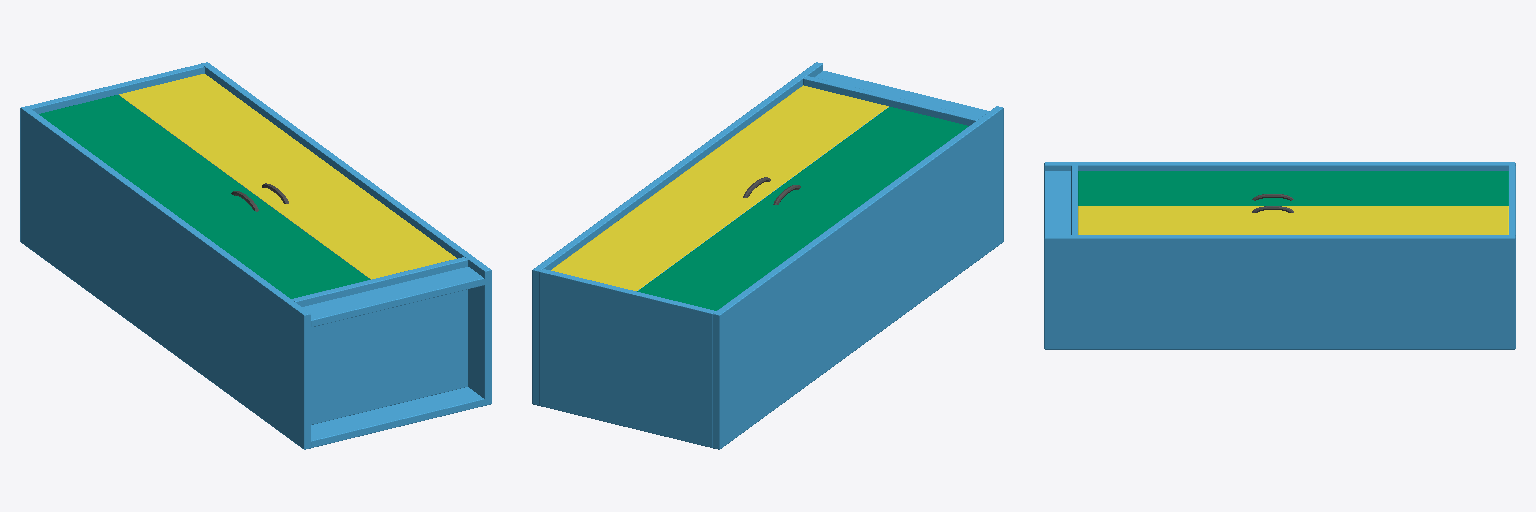
robot.urdf — 266:
<robot name="266">


	<link name="0:virtual">
		<visual>
			<origin xyz="0.0 0.0 0.0" rpy="0 0 0"/>
			<geometry>
				<cylinder length="0" radius="0"/>
			</geometry>
		</visual>
	</link>


	<link name="1:static">
		<visual>
			<origin xyz="-0.0 -0.0 -0.0" rpy="0 0 0"/>
			<geometry>
				<mesh filename="../raw_data/266/part_meshes/1.dae" />
			</geometry>
		</visual>
	</link>


	<link name="2:door 1">
		<visual>
			<origin xyz="0.36953699588775635 -1.1101054698228836 -0.24659500271081924" rpy="0 0 0"/>
			<geometry>
				<mesh filename="../raw_data/266/part_meshes/2.dae" />
			</geometry>
		</visual>
	</link>


	<link name="3:door 2">
		<visual>
			<origin xyz="-0.36953699588775635 -1.1101054698228836 -0.24659500271081924" rpy="0 0 0"/>
			<geometry>
				<mesh filename="../raw_data/266/part_meshes/3.dae" />
			</geometry>
		</visual>
	</link>


	<joint name="0:virtual::1:static" type="fixed">
		<parent link="0:virtual"/>
		<child link="1:static"/>
		<origin xyz="0.0 0.0 0.0" rpy="0 0 0"/>
	</joint>


	<joint name="0:virtual::2:door 1_rotation" type="revolute">
		<parent link="0:virtual"/>
		<child link="2:door 1"/>
		<origin xyz="-0.36953699588775635 1.1101054698228836 0.24659500271081924" rpy="0 0 0"/>
		<limit lower="-1.4922565104551517" upper="0.0" effort="10" velocity="3"/>
		<axis xyz="0.0 1.0 0.0"/>
	</joint>


	<joint name="0:virtual::3:door 2_rotation" type="revolute">
		<parent link="0:virtual"/>
		<child link="3:door 2"/>
		<origin xyz="0.36953699588775635 1.1101054698228836 0.24659500271081924" rpy="0 0 0"/>
		<limit lower="0.0" upper="1.4765485471872026" effort="10" velocity="3"/>
		<axis xyz="0.0 1.0 0.0"/>
	</joint>


</robot>

--- Render facts (derived) ---
The picture shows the robot from 3 angles, left to right: view 1: azimuth 30°, elevation 25°; view 2: azimuth 150°, elevation 25°; view 3: azimuth 270°, elevation 25°; orthographic projection.
Model 266 with 4 links and 3 joints (2 revolute, 1 fixed), rooted at 0:virtual, posed every joint at zero.
Visible links, largest first — view 1: 1:static, 3:door 2, 2:door 1; view 2: 1:static, 3:door 2, 2:door 1; view 3: 1:static, 2:door 1, 3:door 2.
Link boxes in pixels (x1=…): 1:static: x1=20, y1=62, x2=491, y2=449; 3:door 2: x1=119, y1=74, x2=456, y2=279; 2:door 1: x1=39, y1=95, x2=369, y2=298; 1:static: x1=532, y1=62, x2=1003, y2=449; 3:door 2: x1=551, y1=85, x2=888, y2=290; 2:door 1: x1=637, y1=107, x2=968, y2=310; 1:static: x1=1044, y1=162, x2=1515, y2=349; 2:door 1: x1=1078, y1=171, x2=1508, y2=205; 3:door 2: x1=1078, y1=206, x2=1508, y2=234.
Bounding box of the posed robot: 0.8 × 2.1 × 0.5507 m (x, y, z).
Meshes: 3 distinct files referenced, 3 mesh visuals loaded (3 Collada DAE).